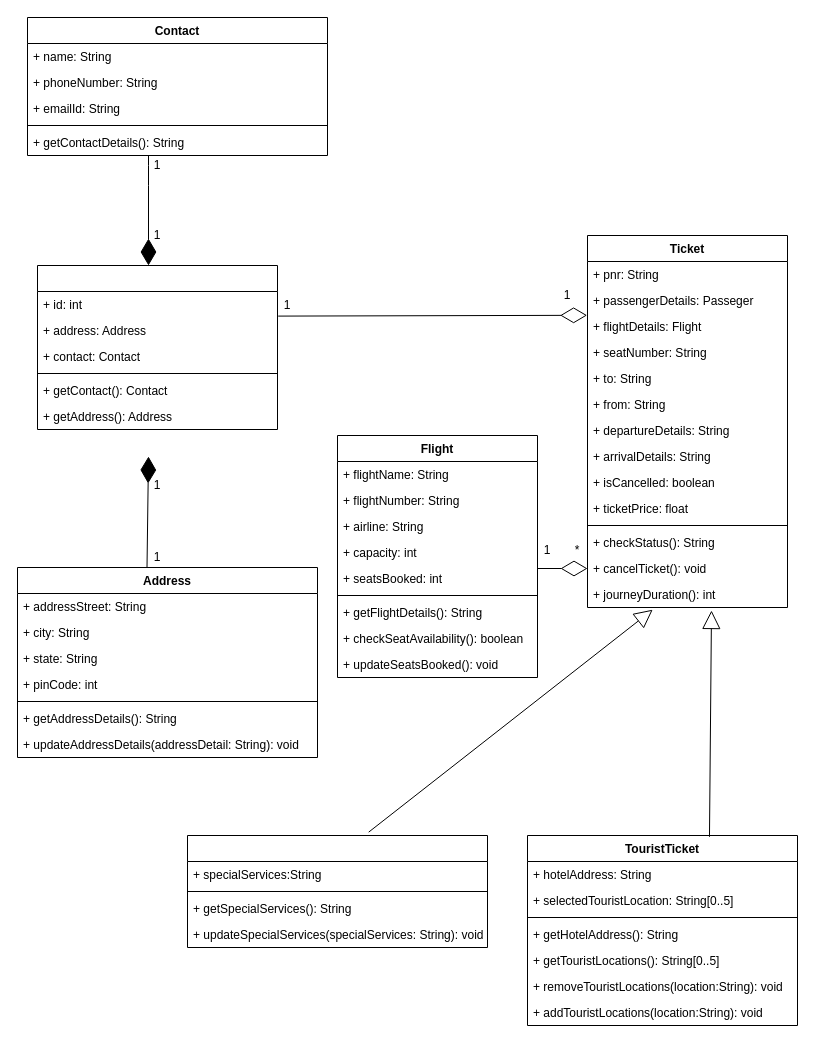
Some shapes in this 815 by 1046 pixel diagram are drawn without their labels. Each missing label, with the box of its shape:
Passenger: (36, 264, 278, 430)
RegularTicket: (186, 834, 488, 948)
